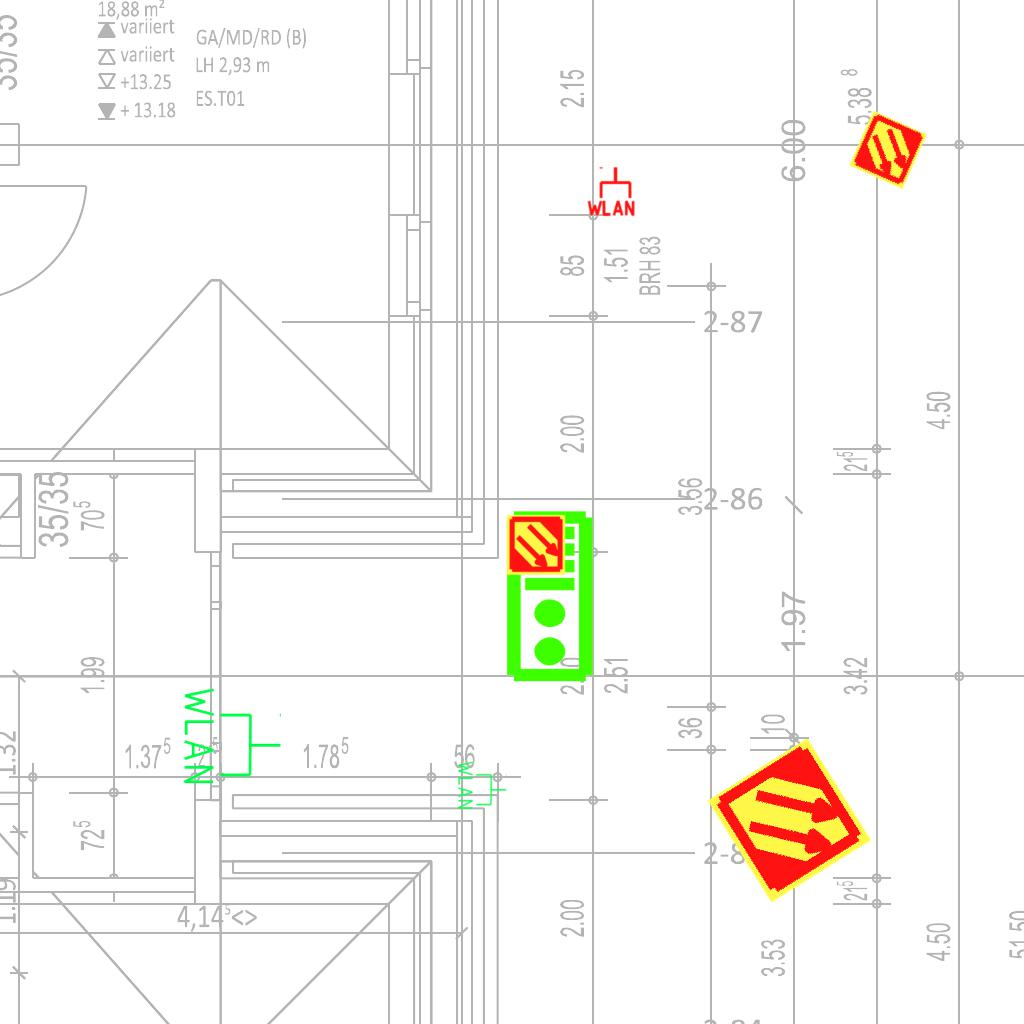ASR_Ansaugrauchmelder: (703, 734, 876, 907), (847, 109, 929, 191), (505, 514, 567, 576)
Gegensprechanlage_mit_Video: (504, 509, 599, 685)
WLAN: (180, 683, 284, 788), (456, 759, 508, 811), (585, 165, 637, 217)
